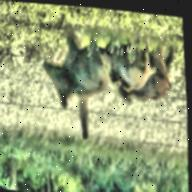boar: (31, 30, 113, 119), (115, 50, 179, 113), (99, 41, 156, 95)
